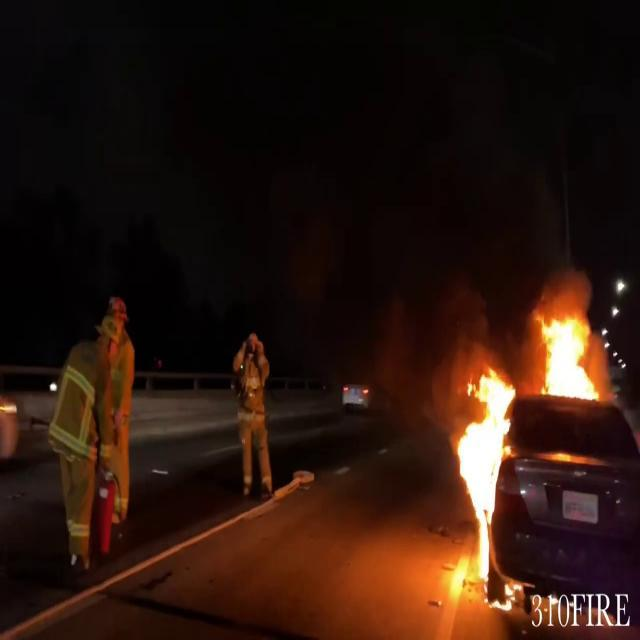Fire: (434, 364, 520, 608), (529, 302, 609, 404)
